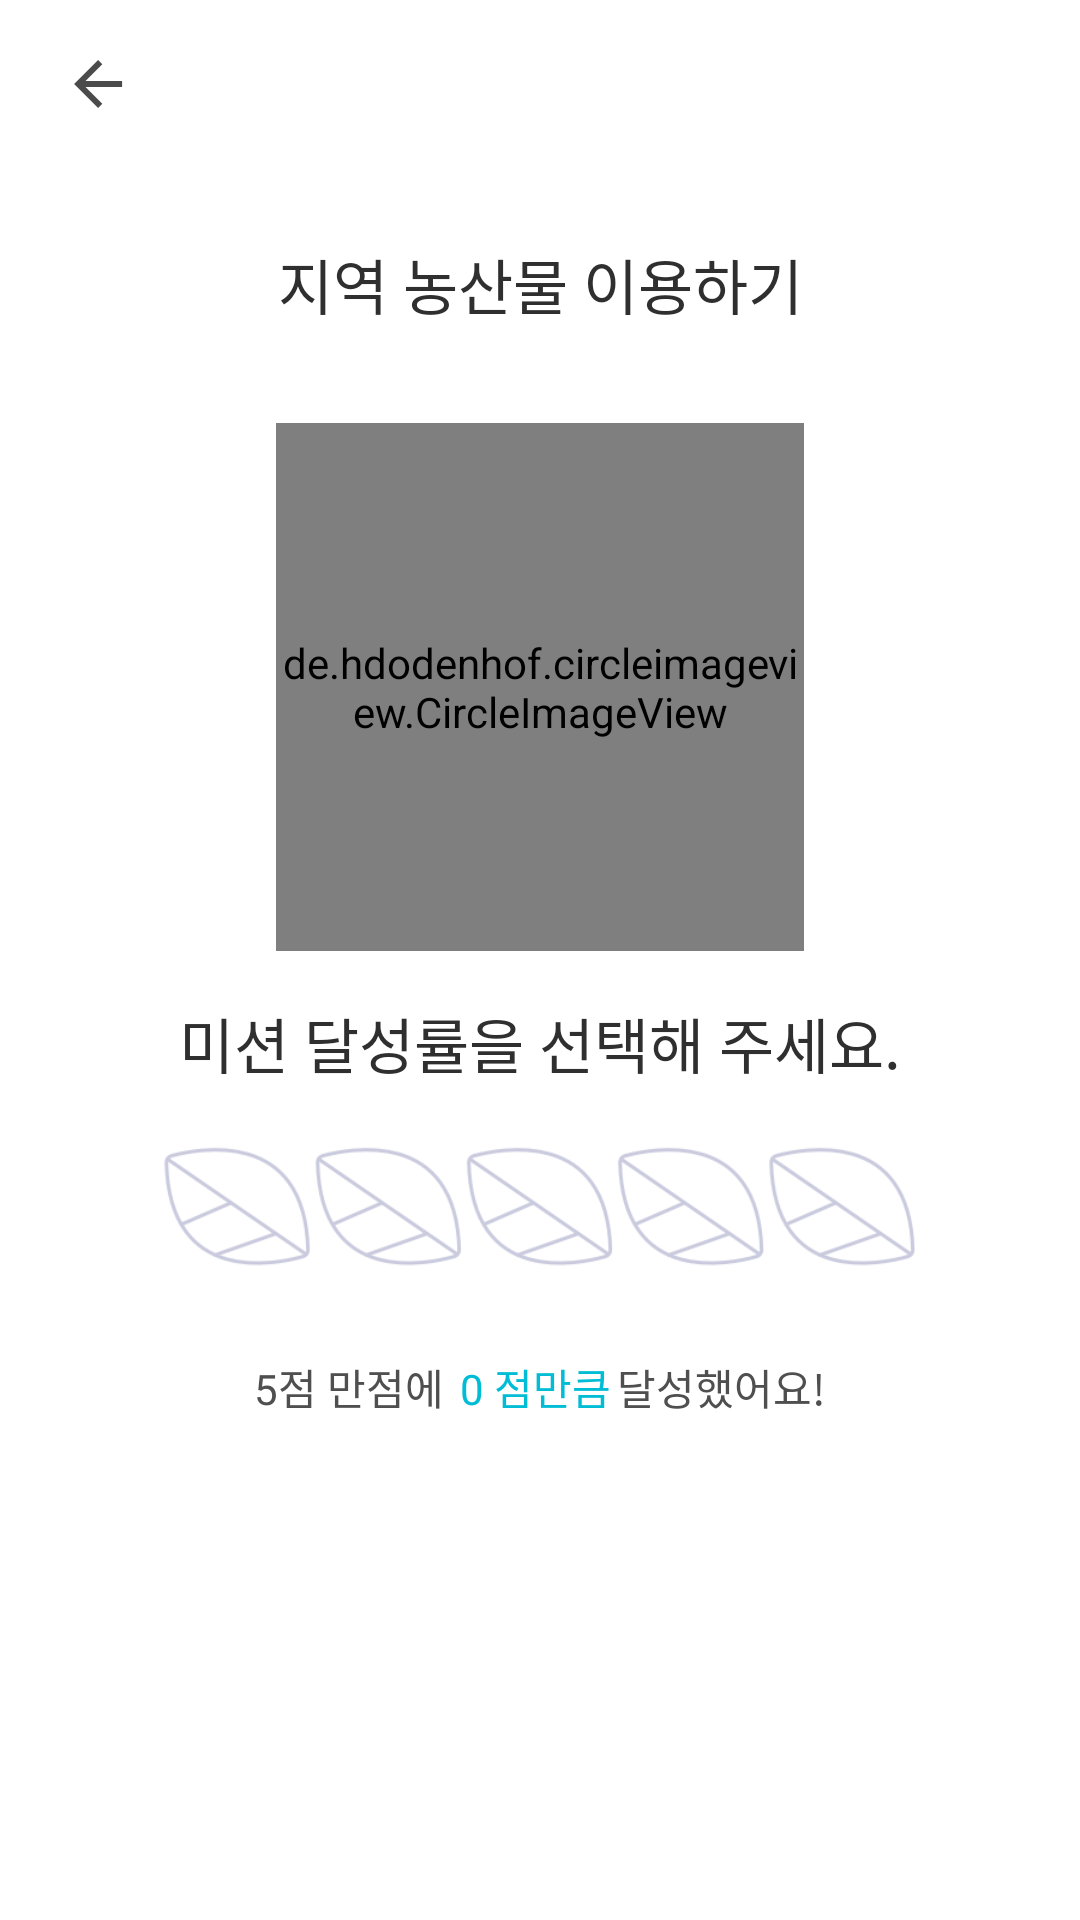

Point at icon controls on the screen. Image size 1080w x 1920h, points as (x=x, y=y).
back: (x=98, y=84)
